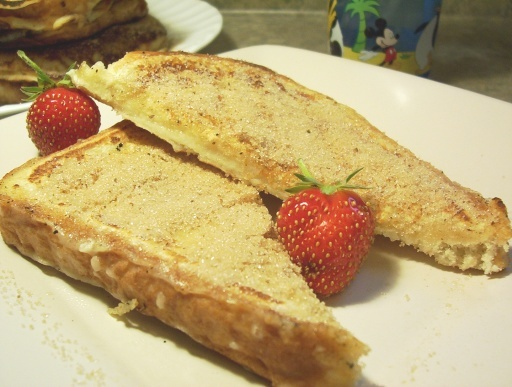background: (0, 0, 410, 234)
